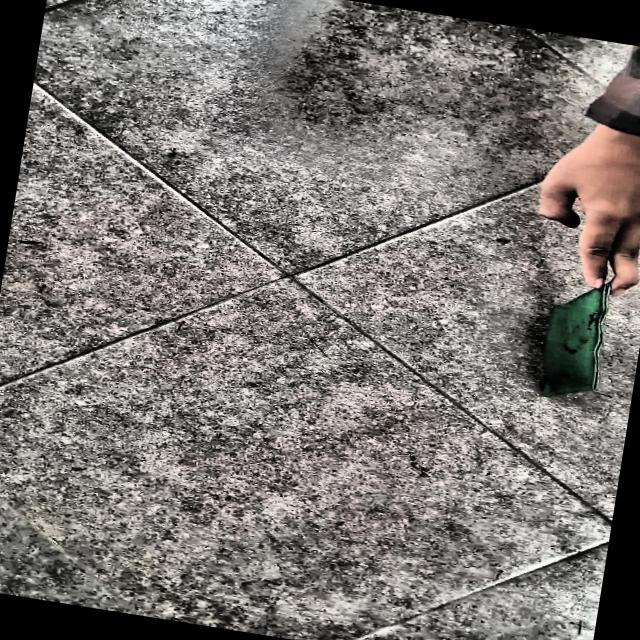payload: (542, 284, 609, 397)
